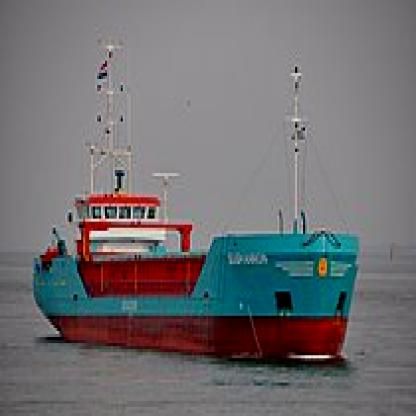Tanker: (27, 31, 364, 374)
